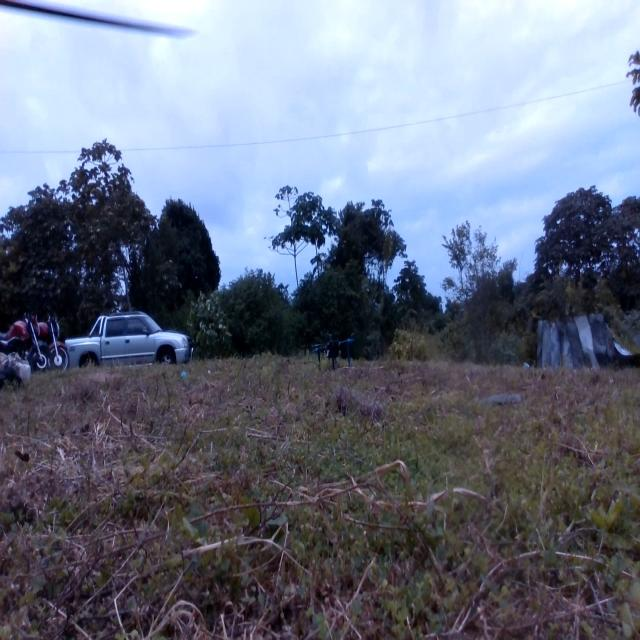-uav-: (312, 330, 358, 381)
